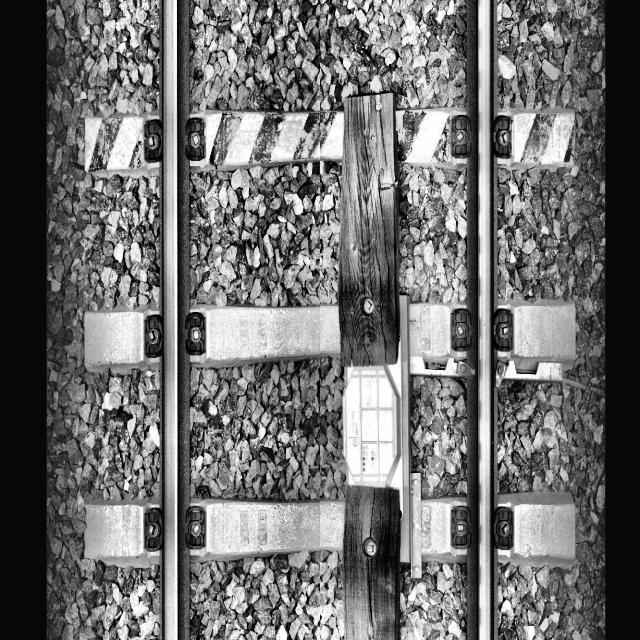Clips: (448, 112, 474, 160), (449, 306, 475, 354), (184, 114, 208, 164), (184, 503, 208, 553), (449, 503, 473, 551), (492, 505, 516, 552), (143, 116, 166, 165), (185, 310, 208, 359), (492, 113, 514, 161), (144, 506, 166, 554), (142, 310, 164, 356), (493, 307, 513, 351)
Sleepers: (78, 493, 579, 570), (82, 106, 578, 178), (83, 301, 580, 372)
